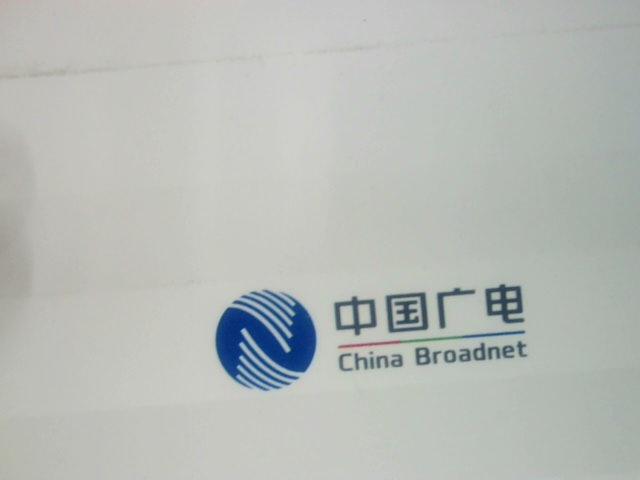AW_ChinaBroadNet: (205, 275, 580, 393)
